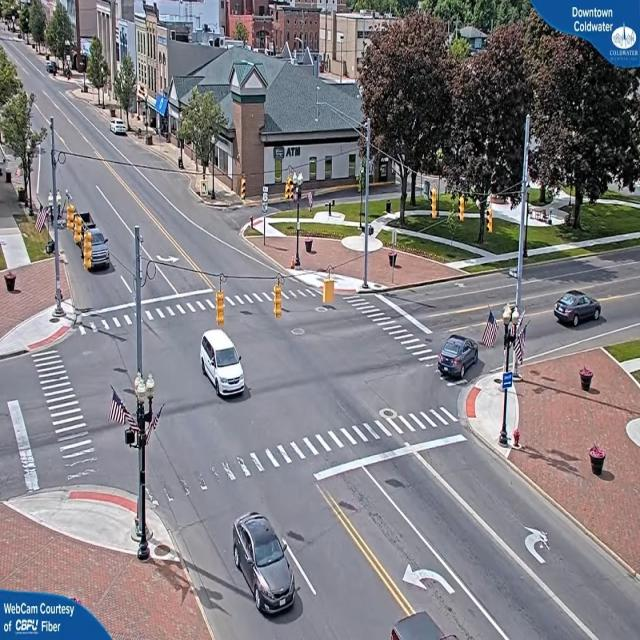car: (229, 513, 297, 617), (201, 332, 249, 399), (438, 337, 482, 383), (554, 290, 603, 329), (80, 224, 112, 275), (112, 121, 129, 136)
